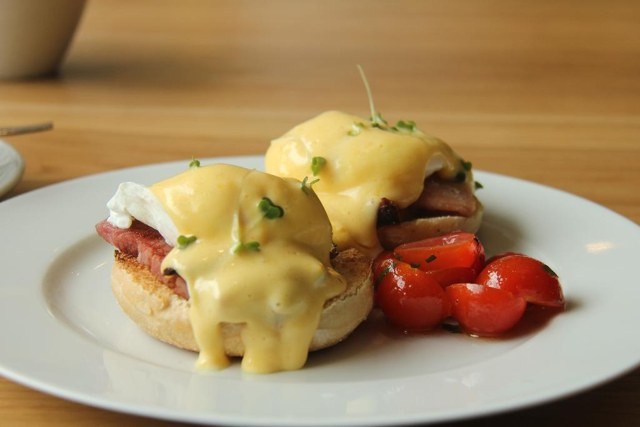tomato: (371, 231, 566, 334)
